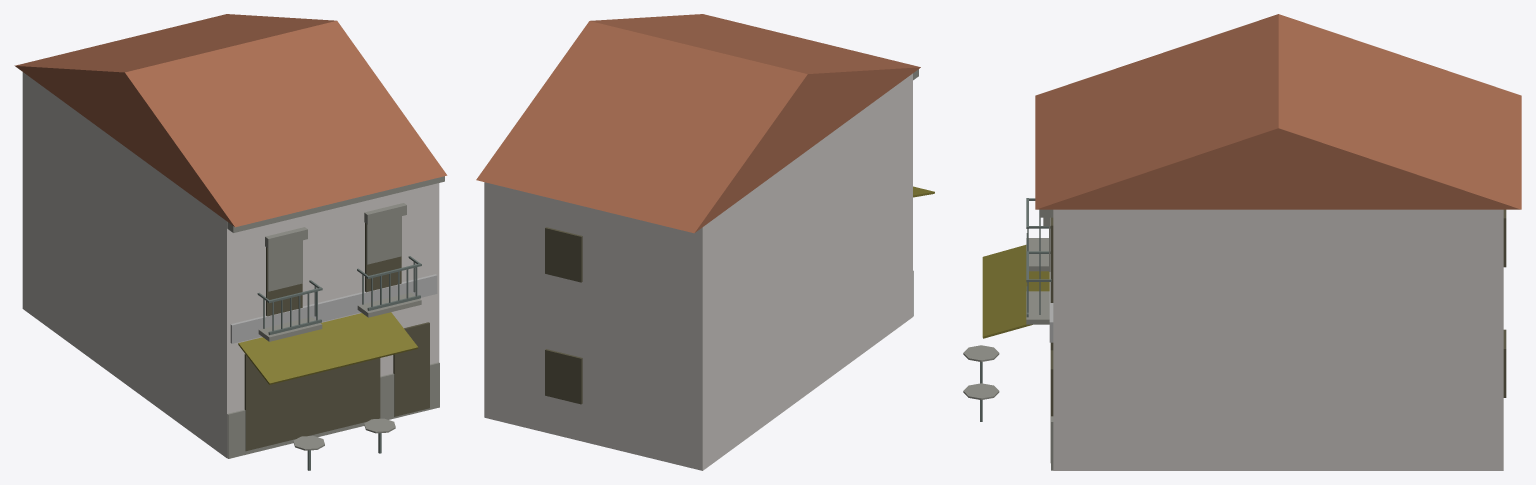
File: SM_BajoComercial_v0_Bar_LOD0.fbx
3 renders of one model, left to right at view 1: azimuth 30°, elevation 25°; view 2: azimuth 150°, elevation 25°; view 3: azimuth 270°, elevation 25°, orthographic. The views are drawn at different scales.
Parts seen in each view (by area): view 1: SM_pueblo_valenciano_v5_LOD0; view 2: SM_pueblo_valenciano_v5_LOD0; view 3: SM_pueblo_valenciano_v5_LOD0.
Part boxes in pixels (x1=…): SM_pueblo_valenciano_v5_LOD0: x1=14, y1=14, x2=447, y2=470; SM_pueblo_valenciano_v5_LOD0: x1=476, y1=14, x2=934, y2=470; SM_pueblo_valenciano_v5_LOD0: x1=963, y1=14, x2=1521, y2=470.
Bounding box in the file's own units: 6 × 8.4 × 12.4.
